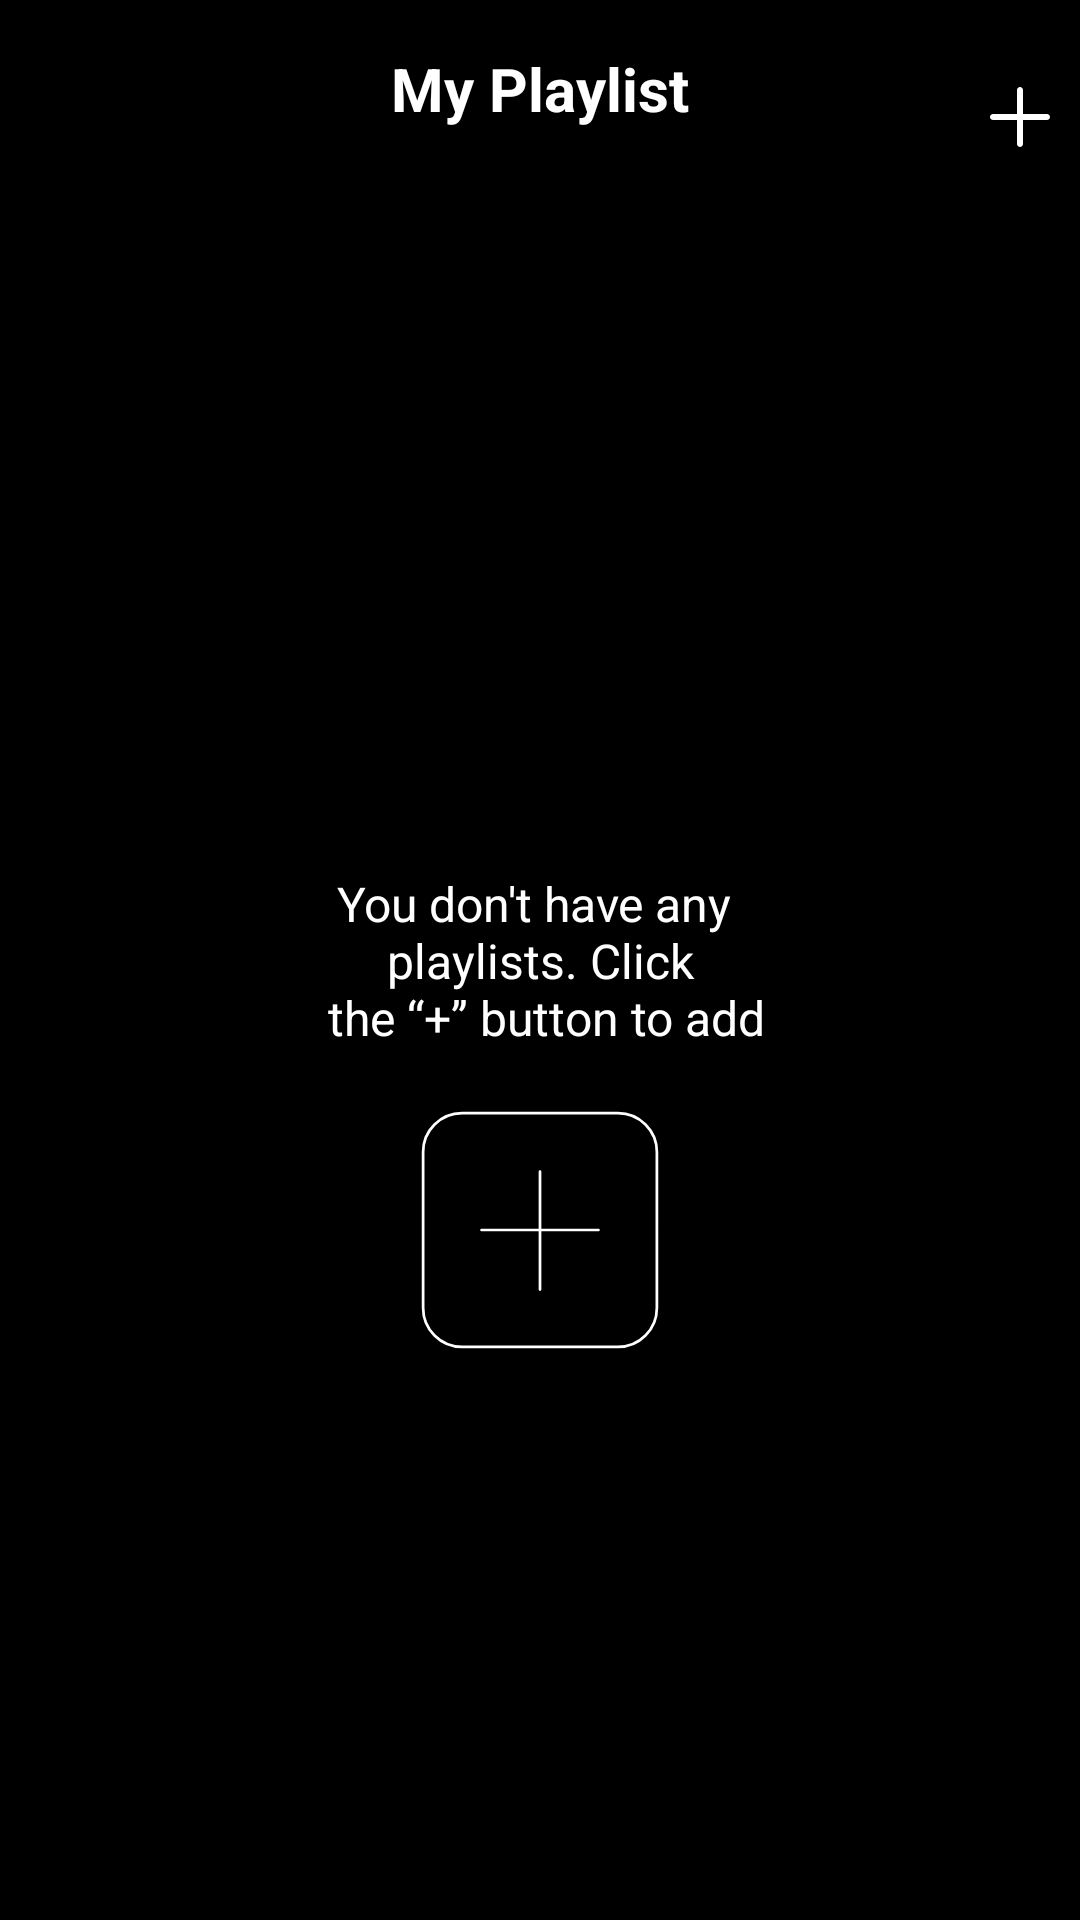

Icon click points for this 1080×1920 phone screenshot, format (x,y):
playlist add: (1020,117)
playlist addplaylist: (540,1230)
